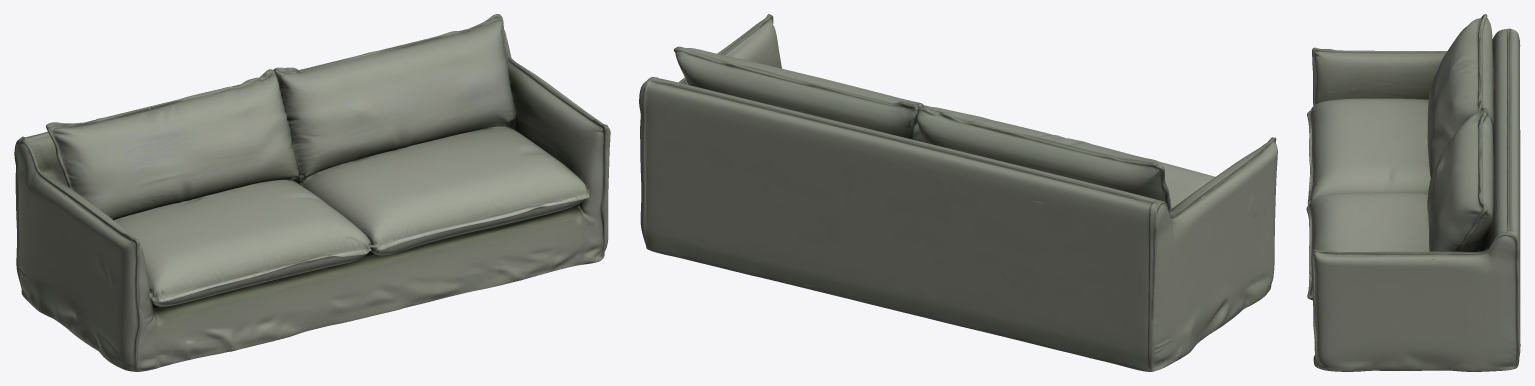
File: alt_sofa_sage.glb
3 views of the same model, side by side, from view 1: azimuth 30°, elevation 25°; view 2: azimuth 150°, elevation 25°; view 3: azimuth 270°, elevation 25° (orthographic). The views are drawn at different scales.
Parts seen in each view (by area): view 1: node_0; view 2: node_0; view 3: node_0.
Part boxes in pixels (<box>): node_0: <box>14,14,610,371</box>; node_0: <box>639,14,1277,371</box>; node_0: <box>1306,14,1520,371</box>.
Size of the model in its own units: 1.08 by 0.3781 by 0.466.
1 material, 1 textured.
